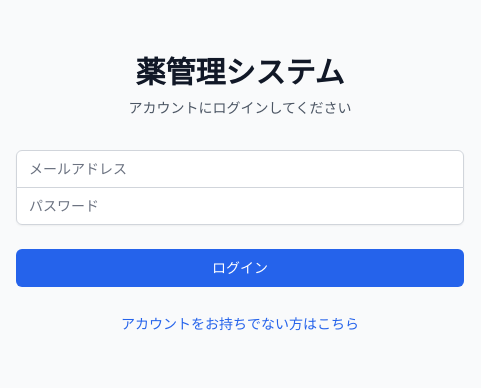
Test: LoginForm › フォーム送信 › 再ログイン試行時にエラーメッセージがクリアされる
Note: フォームに入力してエラーを発生させる
Type "test@example.com" into the field with placeholder "メールアドレス" at (240, 168), box [16,150,464,188]
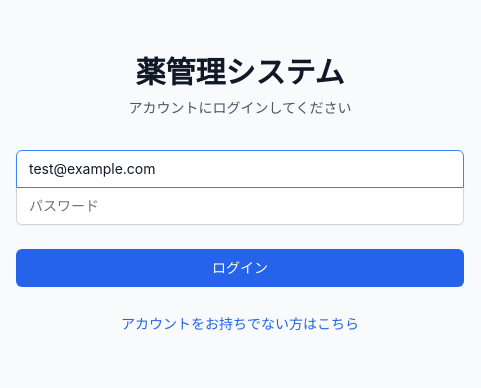
Type "wrongpassword" into the password field with placeholder "パスワード" at (240, 206), box [16,186,464,224]
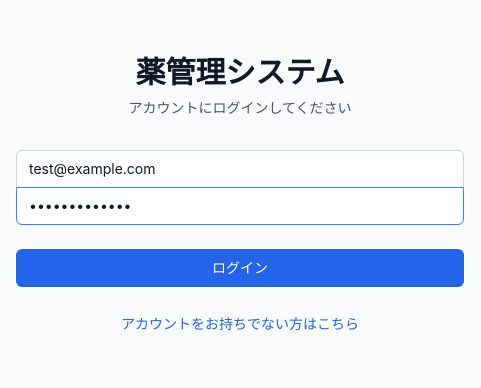
Click the button "ログイン" at (240, 268), box [16,248,464,286]
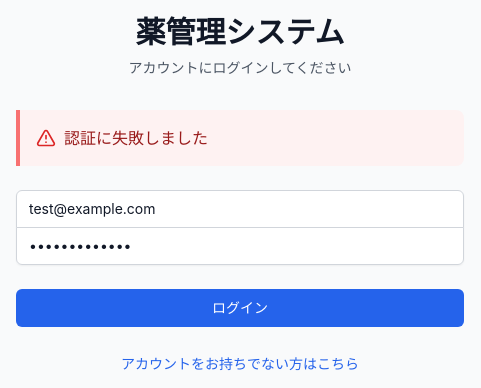
Expected: the text "認証に失敗しました" is shown, [64,126,208,150]
Note: 再度ログインボタンをクリック
Click the button "ログイン" at (240, 308), box [16,288,464,326]
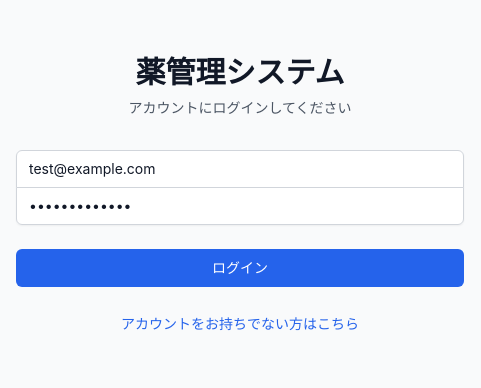
Expected: the text "認証に失敗しました" is gone
Expected: the message "認証に失敗しました" is gone
